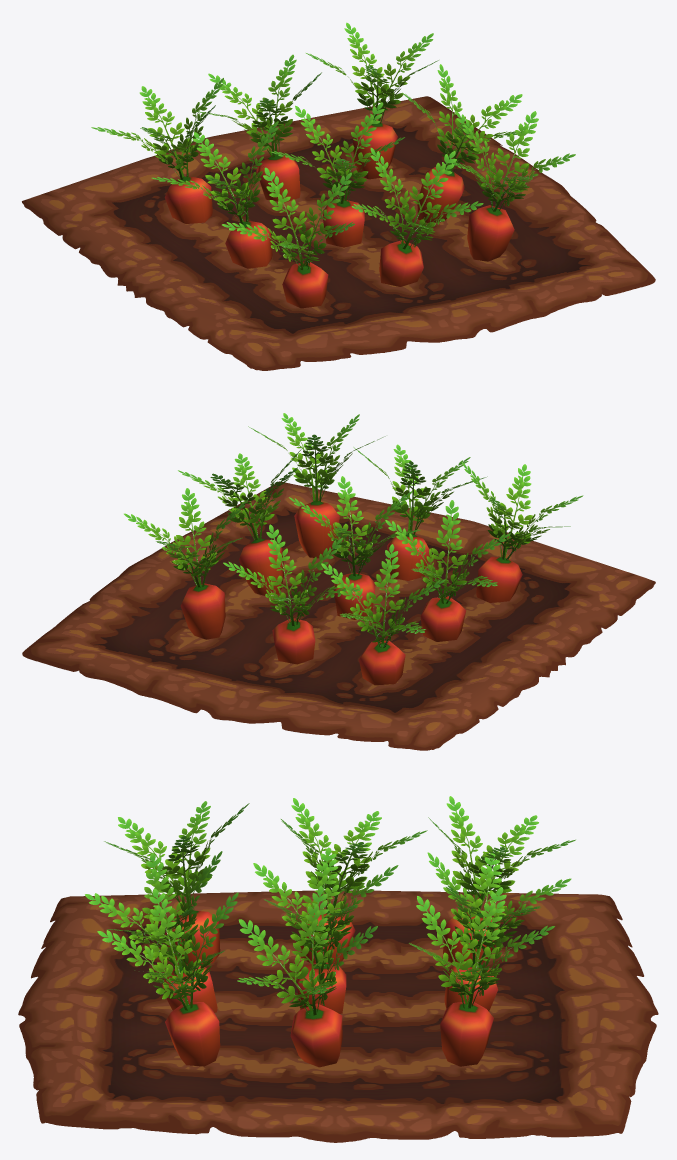
Rendered from Carrot_Field_Lv3.FBX.
The picture shows the model from 3 angles, top to bottom: view 1: azimuth 30°, elevation 25°; view 2: azimuth 150°, elevation 25°; view 3: azimuth 270°, elevation 25°; orthographic projection. The views are drawn at different scales.
Visible parts, largest first — view 1: Carrot_Field_Lv3; view 2: Carrot_Field_Lv3; view 3: Carrot_Field_Lv3.
Boxes of the visible parts, bbox=[...] form: Carrot_Field_Lv3: bbox=[22, 22, 655, 370]; Carrot_Field_Lv3: bbox=[22, 413, 655, 750]; Carrot_Field_Lv3: bbox=[18, 796, 658, 1142].
Size of the model in its own units: 274 by 105 by 296.
